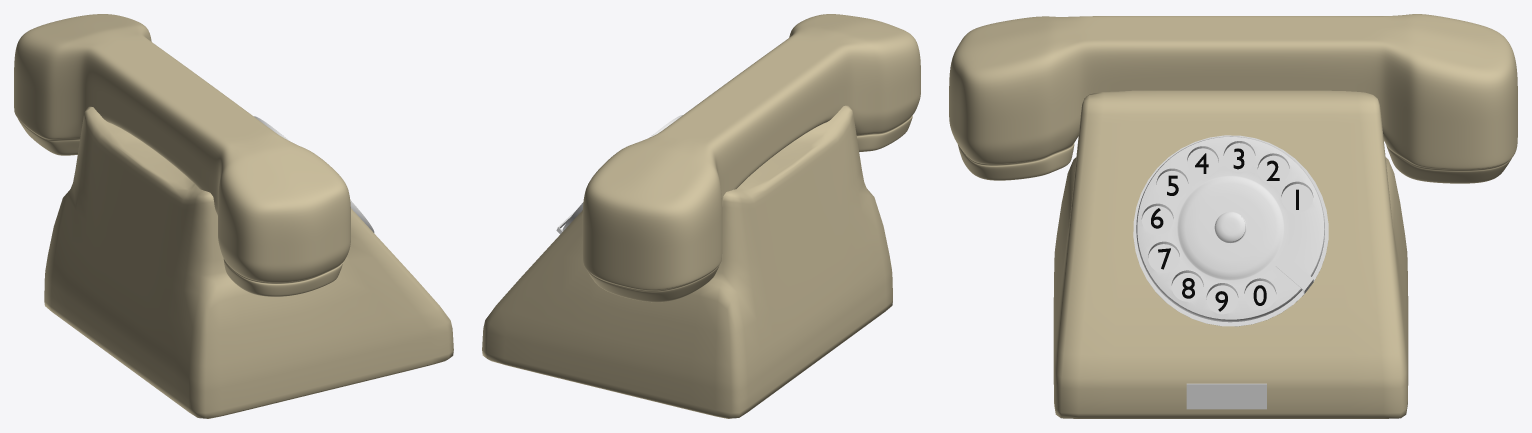
Rendered from ankesörlütelefon.fbx.
3 renders of one model, left to right at view 1: azimuth 30°, elevation 25°; view 2: azimuth 150°, elevation 25°; view 3: azimuth 270°, elevation 25°, orthographic. The views are drawn at different scales.
Visible parts, largest first — view 1: основа телефона, Трубка; view 2: основа телефона, Трубка; view 3: основа телефона, Трубка, диск, ограничитель диска, подпись.
Boxes of the visible parts, <box> form: основа телефона: <box>44,106,453,418</box>; Трубка: <box>14,14,350,296</box>; основа телефона: <box>482,105,892,418</box>; Трубка: <box>582,14,920,302</box>; основа телефона: <box>1053,90,1408,418</box>; Трубка: <box>949,14,1517,183</box>; диск: <box>1136,136,1324,322</box>; ограничитель диска: <box>1133,135,1328,326</box>; подпись: <box>1186,383,1266,409</box>.
Size of the model in its own units: 242 by 231 by 413.
